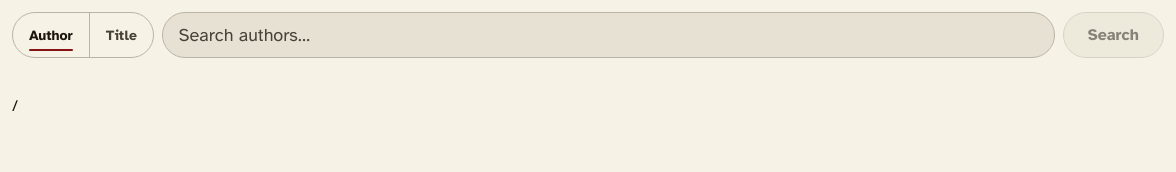
Test: SearchBar (SPEC §9) › picking a title suggestion runs an exact search → ?title= (§16 #5)
Step 1. Click the radio button labelled "Title" → (121, 35), box x1=89 y1=13 x2=153 y2=57
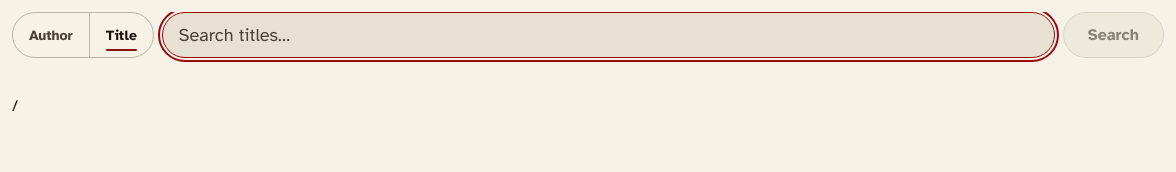
Step 2. Type "Ozy" into the dropdown → (608, 35), box x1=162 y1=12 x2=1055 y2=58
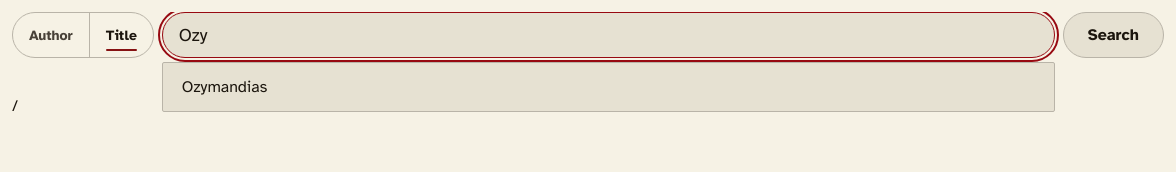
Step 3. Click the option "Ozymandias" → (224, 87), box x1=182 y1=77 x2=267 y2=97
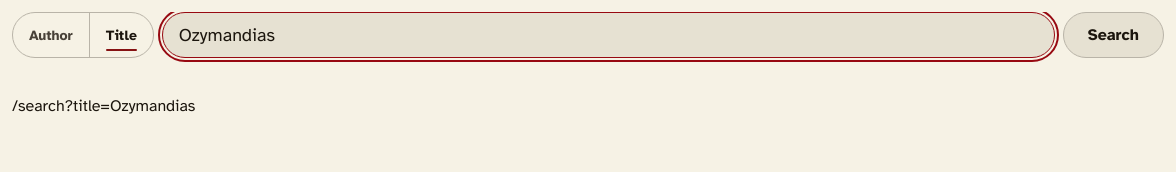
Expected: the text with test id "loc" reads "/search?title=Ozymandias", x1=12 y1=96 x2=195 y2=116
